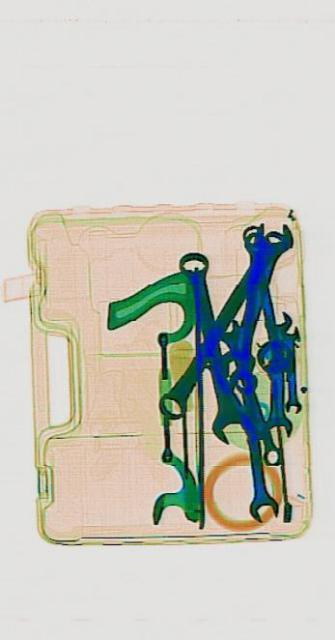Wrench: (154, 210, 287, 432), (168, 233, 257, 452), (214, 203, 295, 393), (215, 311, 282, 474), (228, 347, 277, 526), (261, 310, 292, 440), (281, 326, 300, 414)
